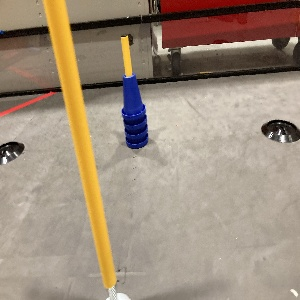Blue_4: (120, 73, 150, 150)
